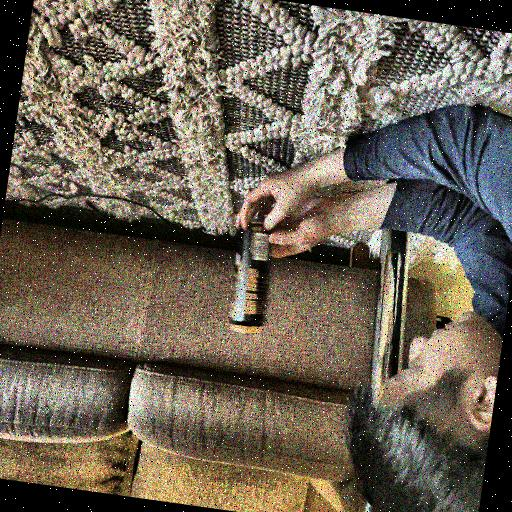karhu: (222, 207, 280, 344)
